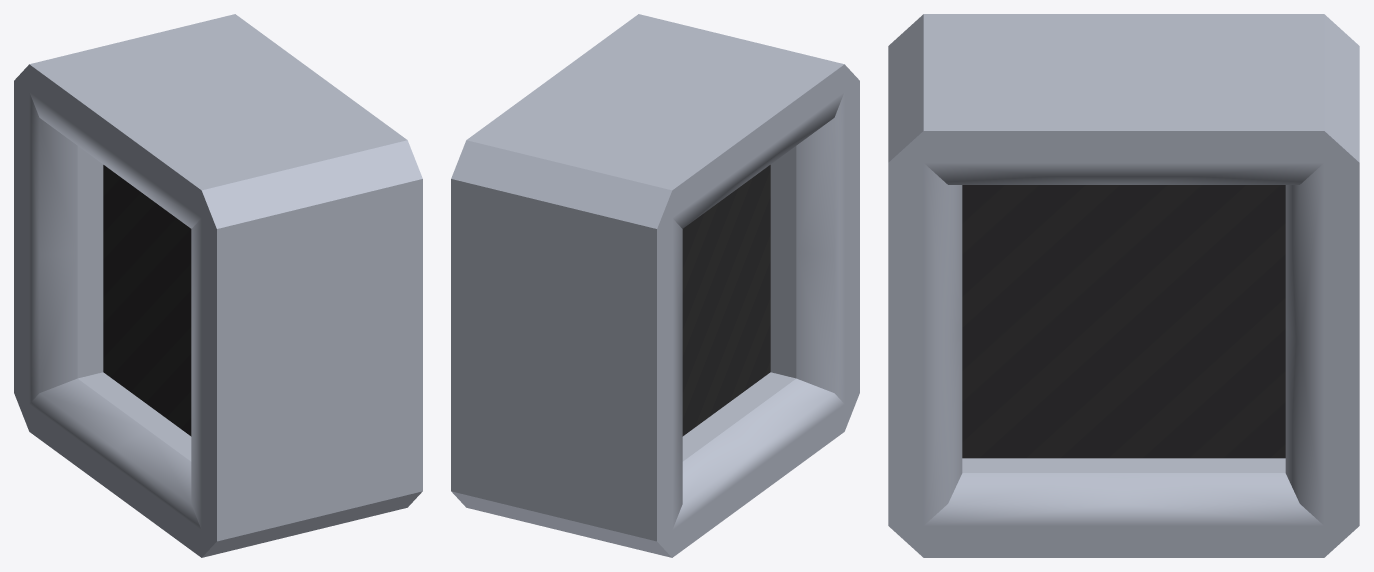
Rendered from Small_Door_Textured.fbx.
3 renders of one model, left to right at view 1: azimuth 30°, elevation 25°; view 2: azimuth 150°, elevation 25°; view 3: azimuth 270°, elevation 25°, orthographic. The views are drawn at different scales.
Parts seen in each view (by area): view 1: pCube1, pCube2; view 2: pCube1, pCube2; view 3: pCube1, pCube2.
Part boxes in pixels (<box>): pCube1: <box>14,14,422,557</box>; pCube2: <box>103,165,191,436</box>; pCube1: <box>451,14,859,557</box>; pCube2: <box>682,165,770,436</box>; pCube1: <box>888,14,1359,557</box>; pCube2: <box>962,185,1285,458</box>.
Bounding box in the file's own units: 1.3 × 2.21 × 2.21.
Materials: 2 (2 with a texture image).
